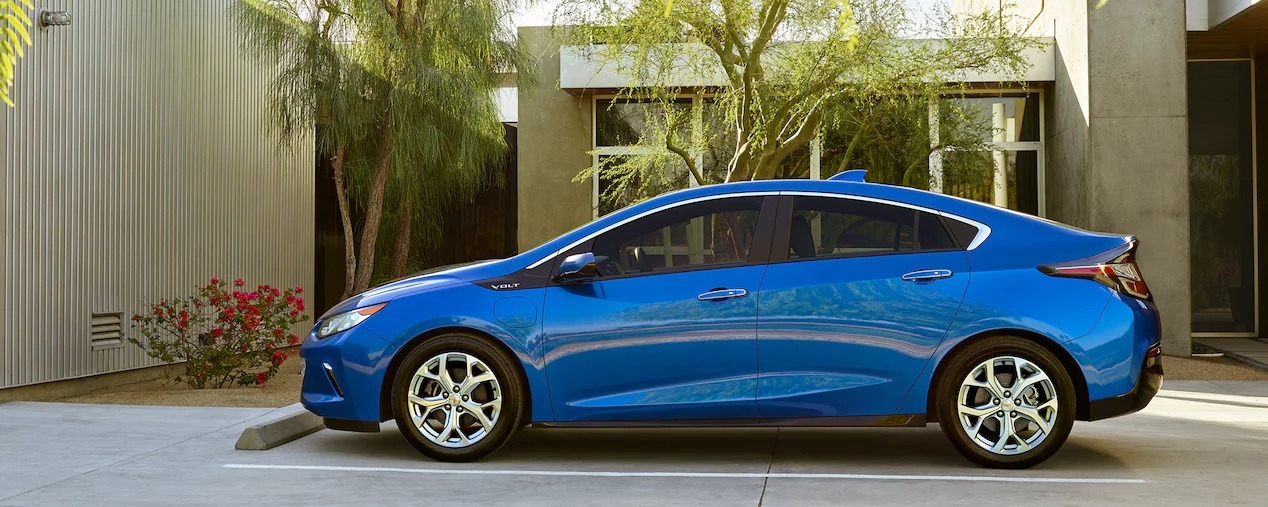car: (268, 174, 1163, 468)
